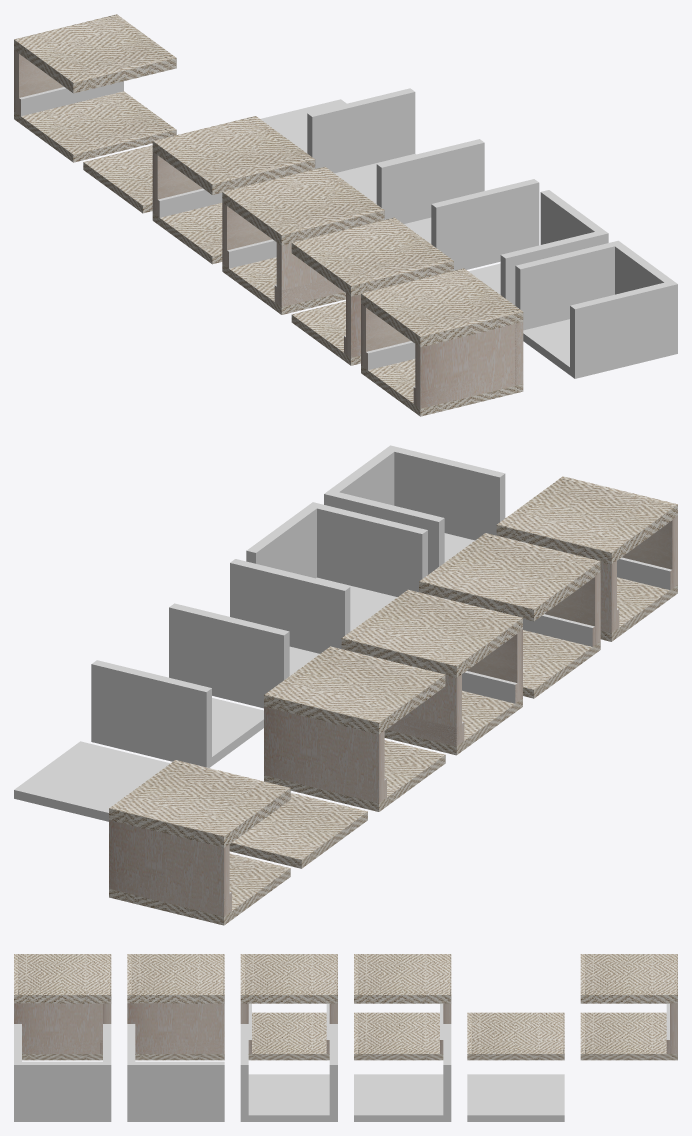
File: TileExample.glb
3 renders of one model, top to bottom at view 1: azimuth 30°, elevation 25°; view 2: azimuth 150°, elevation 25°; view 3: azimuth 270°, elevation 25°, orthographic. The views are drawn at different scales.
Visible parts, largest first — view 1: T-Corridor.008, End Piece, Corridor, T-Corridor.014, T-Corridor.001, T-Corridor.005, T-Corridor, T-Corridor.012, T-Corridor.002, Corner, T-Corridor.006, T-Corridor.011 (+4 smaller); view 2: T-Corridor.001, T-Corridor.014, Corridor, T-Corridor.005, T-Corridor.008, Corner, End Piece, T-Corridor, T-Corridor.012, T-Corridor.010, Flat, T-Corridor.006 (+4 smaller); view 3: T-Corridor.005, T-Corridor.008, T-Corridor.001, T-Corridor.014, End Piece, Corner, Corridor, T-Corridor, T-Corridor.012, T-Corridor.006, Flat, T-Corridor.002 (+1 smaller).
Boxes of the visible parts, left/top/right/bottom form: T-Corridor.008: left=361, top=268, right=523, bottom=416; End Piece: left=515, top=240, right=677, bottom=378; Corridor: left=376, top=139, right=539, bottom=270; T-Corridor.014: left=222, top=167, right=384, bottom=314; T-Corridor.001: left=152, top=116, right=315, bottom=264; T-Corridor.005: left=291, top=217, right=453, bottom=365; T-Corridor: left=307, top=88, right=415, bottom=203; T-Corridor.012: left=14, top=14, right=176, bottom=93; T-Corridor.002: left=14, top=91, right=176, bottom=162; Corner: left=468, top=190, right=608, bottom=305; T-Corridor.006: left=83, top=145, right=152, bottom=213; T-Corridor.011: left=14, top=81, right=123, bottom=116; T-Corridor.001: left=264, top=646, right=445, bottom=811; T-Corridor.014: left=341, top=589, right=522, bottom=755; Corridor: left=169, top=559, right=350, bottom=708; T-Corridor.005: left=419, top=533, right=600, bottom=698; T-Corridor.008: left=496, top=476, right=677, bottom=641; Corner: left=246, top=502, right=427, bottom=631; End Piece: left=324, top=445, right=505, bottom=574; T-Corridor: left=91, top=660, right=263, bottom=767; T-Corridor.012: left=109, top=760, right=290, bottom=847; T-Corridor.010: left=109, top=819, right=229, bottom=916; Flat: left=14, top=741, right=170, bottom=821; T-Corridor.006: left=229, top=792, right=367, bottom=868; T-Corridor.005: left=127, top=954, right=224, bottom=1060; T-Corridor.008: left=14, top=954, right=111, bottom=1060; T-Corridor.001: left=354, top=954, right=451, bottom=1060; T-Corridor.014: left=240, top=954, right=337, bottom=1060; End Piece: left=14, top=1024, right=111, bottom=1121; Corner: left=127, top=1024, right=224, bottom=1121; Corridor: left=240, top=1024, right=337, bottom=1121; T-Corridor: left=354, top=1024, right=451, bottom=1121; T-Corridor.012: left=580, top=954, right=677, bottom=1003; T-Corridor.006: left=467, top=1012, right=564, bottom=1060; Flat: left=467, top=1074, right=564, bottom=1121; T-Corridor.002: left=580, top=1012, right=677, bottom=1060.
Size of the model in its own units: 15 by 4.44 by 41.
4 materials, 3 textured.
